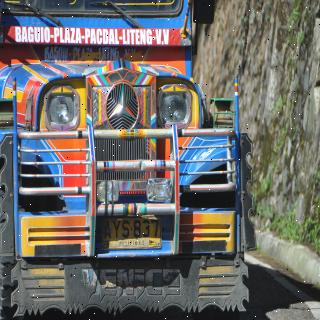license: (102, 217, 163, 250)
